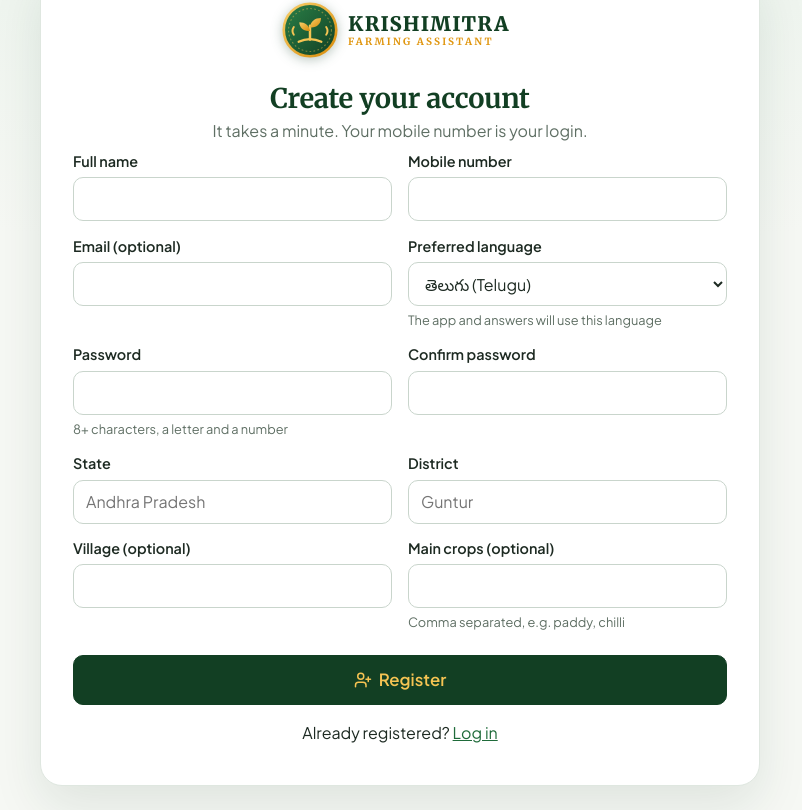
Test: Register page › validates fields and sends a cleaned payload
The width and height of the screenshot is (802, 810).
Later steps or results of the test are not shown.
(page scrolled)
Click the button "Register" at [400, 680], box [73,655,727,705]
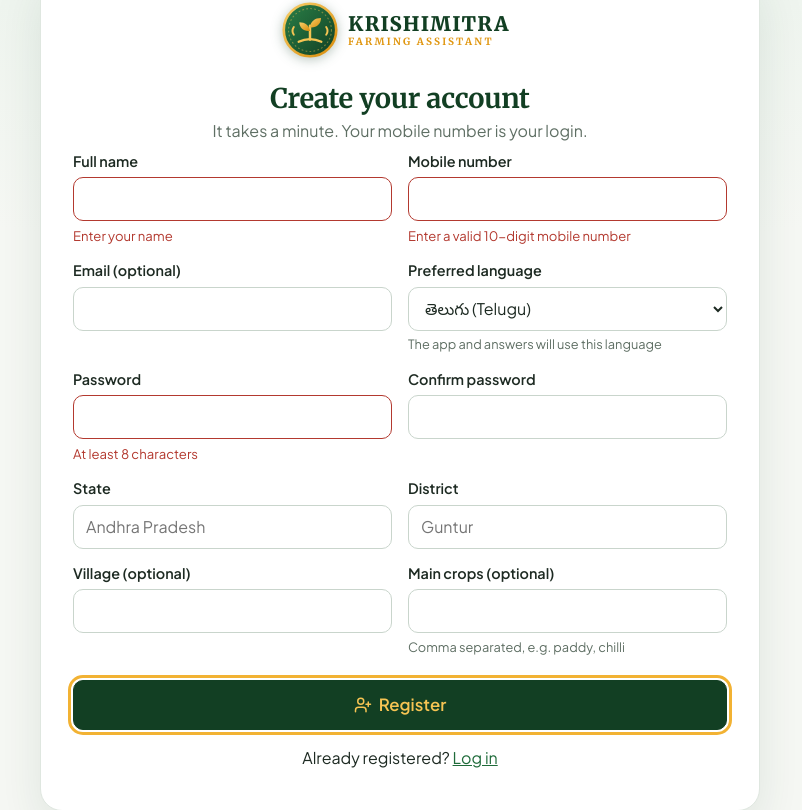
Expected: the text "Enter your name" is shown, [73,227,173,244]
